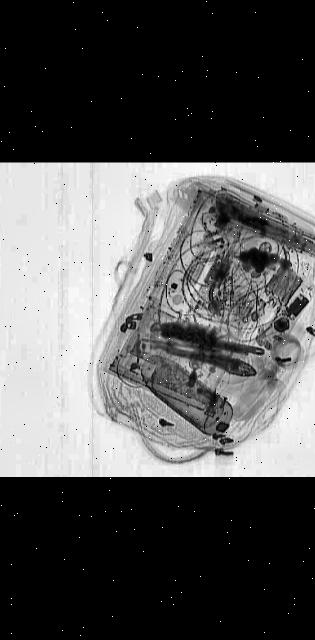Pliers: (154, 332, 264, 382)
